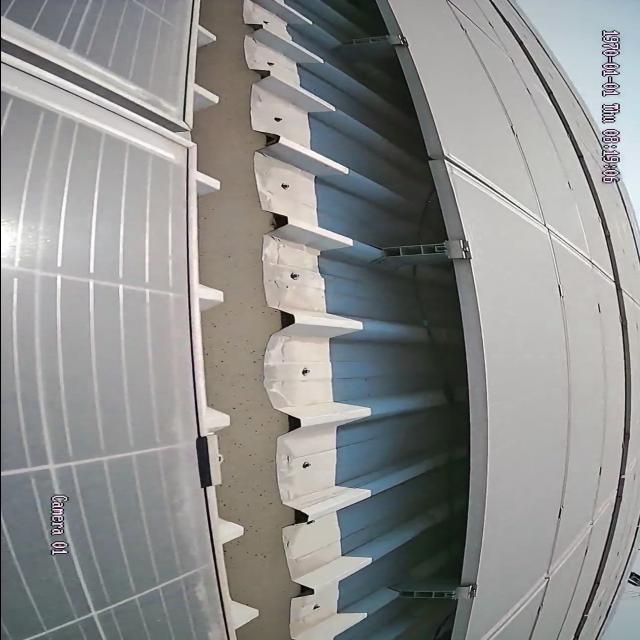interior panel: (0, 12, 167, 156), (453, 153, 611, 282), (485, 500, 605, 640)
outher panel: (176, 2, 488, 639)
